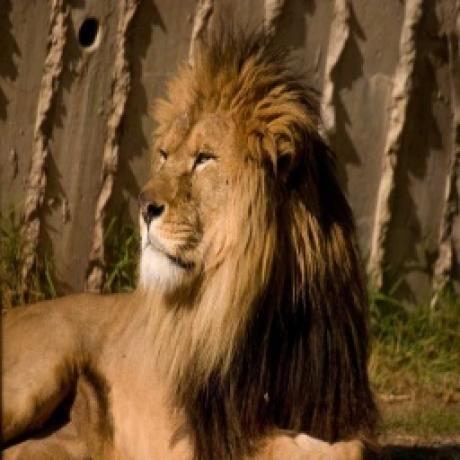Lion: (0, 29, 380, 460)
